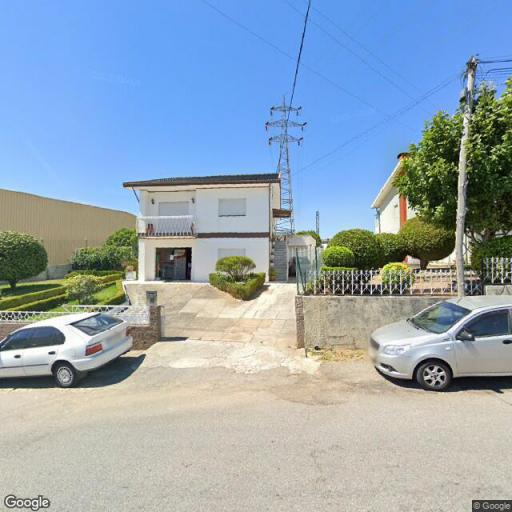ss_3: (264, 95, 309, 236)
